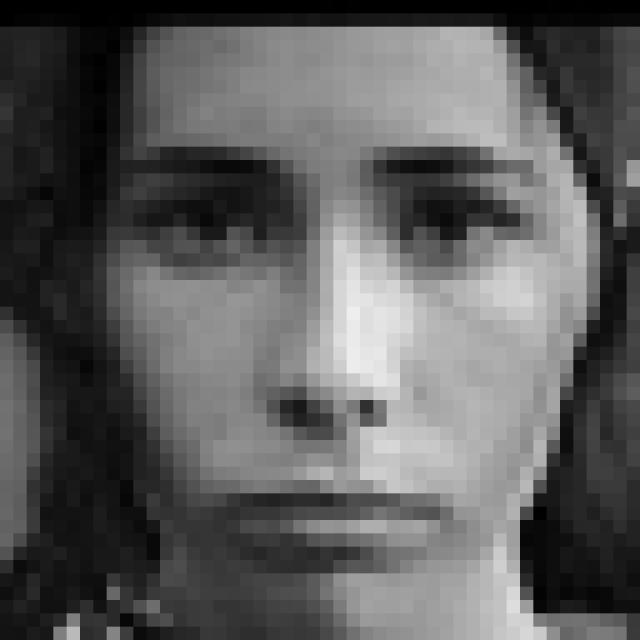neutral: (123, 138, 558, 579)
